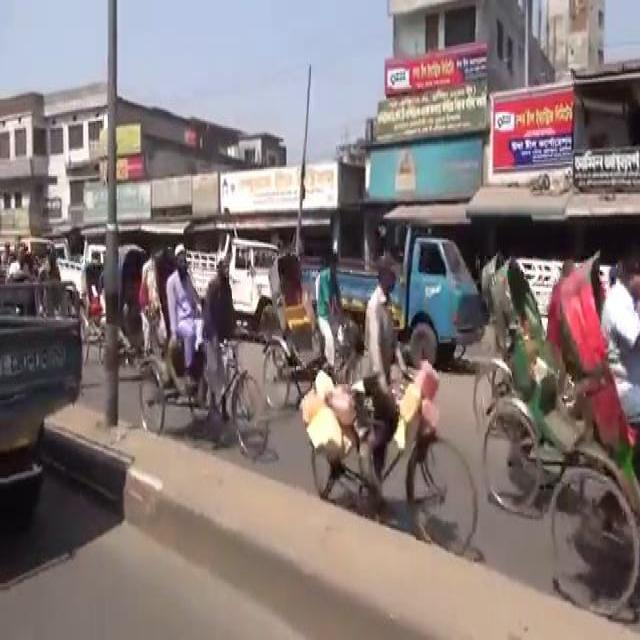11: (297, 232, 481, 365), (180, 235, 278, 341), (52, 238, 106, 310)
13: (544, 243, 636, 617), (135, 239, 267, 458), (480, 251, 568, 517), (260, 243, 364, 408), (104, 239, 146, 376)
18: (0, 259, 85, 489)
Motorcycle: (304, 250, 481, 556)
